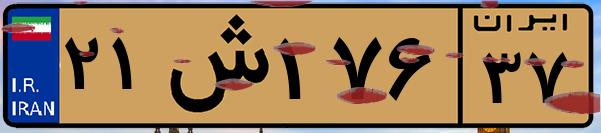1: (270, 28, 330, 110), (110, 28, 158, 98)
2: (57, 26, 110, 100)
3: (475, 38, 525, 113)
6: (385, 28, 445, 110)
7: (330, 28, 385, 110), (525, 38, 570, 115)
ش: (158, 12, 270, 120)
